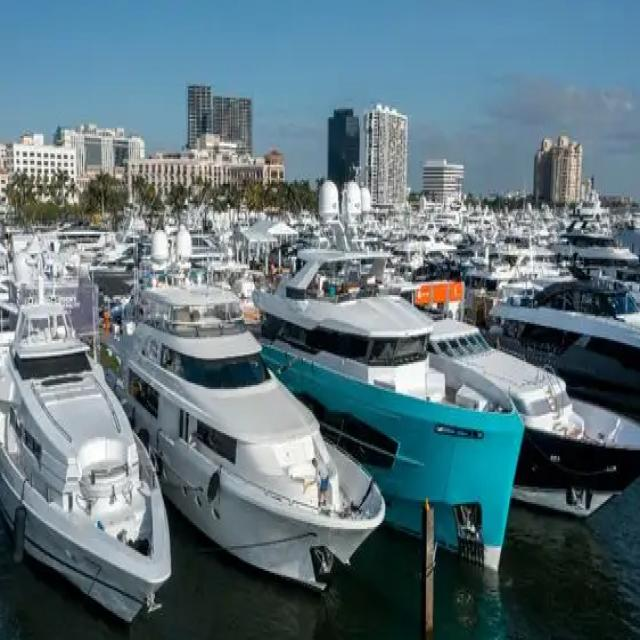houseboat: (252, 229, 530, 598), (112, 262, 381, 608), (395, 274, 640, 533), (0, 293, 171, 629)
